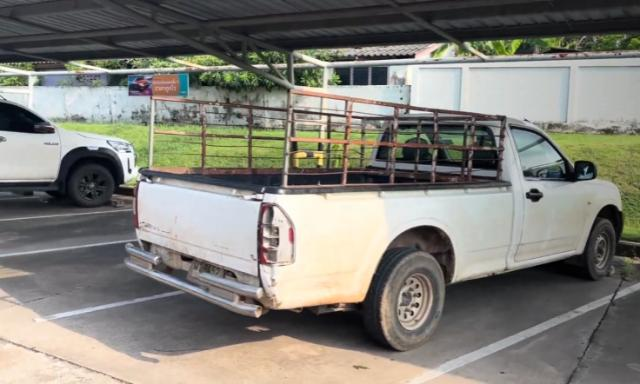pickup-truck: (134, 91, 625, 352)
